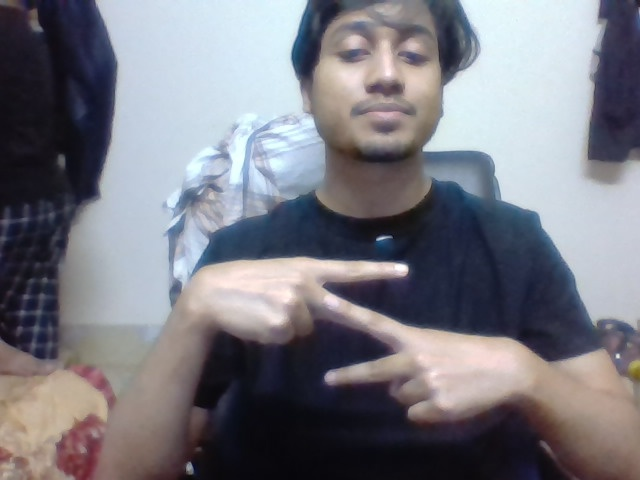Z: (308, 251, 418, 392)
